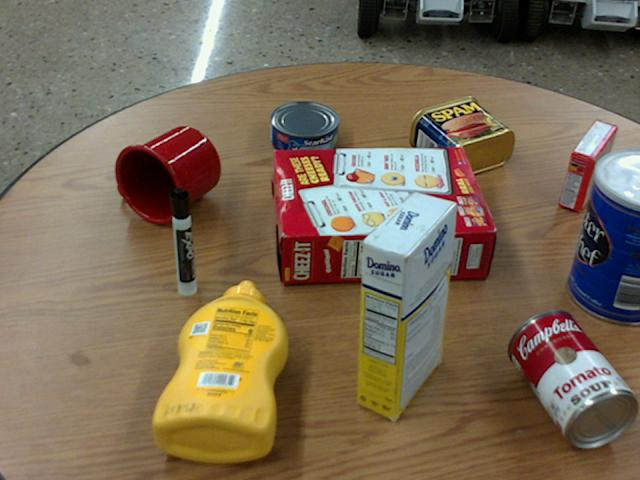cracker_box: (272, 147, 492, 283)
gelatin_box: (559, 121, 615, 211)
large_marker: (170, 186, 194, 294)
master_chef_can: (568, 149, 639, 324)
mug: (114, 125, 219, 223)
mustard_bottle: (153, 280, 287, 460)
potted_meat_can: (409, 96, 514, 175)
sugar_box: (356, 192, 456, 418)
tomato_soup_can: (508, 308, 637, 444)
tuna_fish_can: (270, 100, 338, 156)
